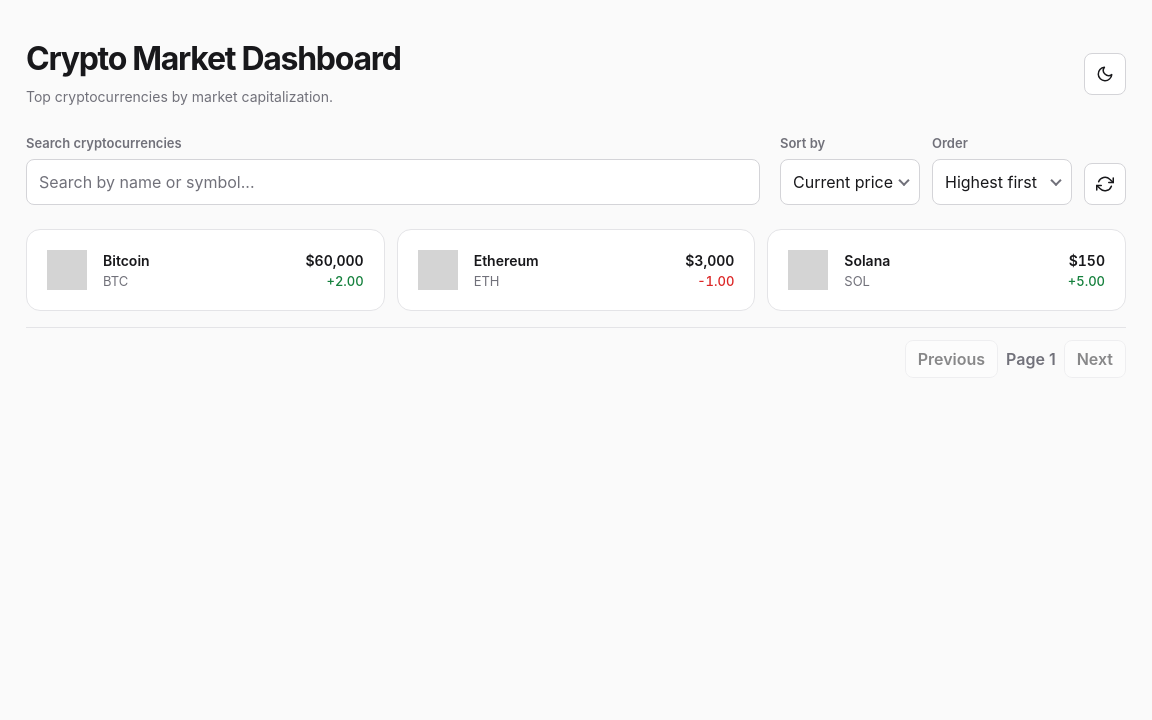
Crypto dashboard › lazy-loads the coin detail view when a coin is selected
This screenshot has width=1152, height=720.
Click the button "Bitcoin BTC $60,000 +2.00" at [67, 270], box x1=26 y1=229 x2=385 y2=311
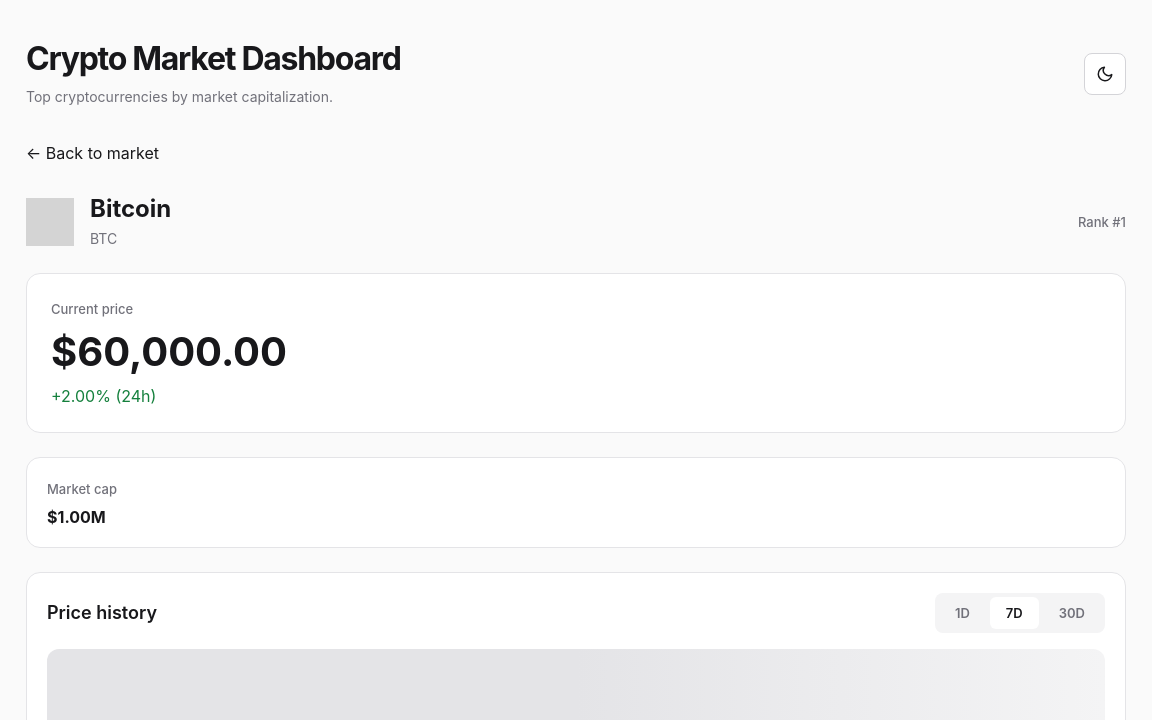
Result: the button "← Back to market" is shown at x1=26 y1=135 x2=159 y2=171
